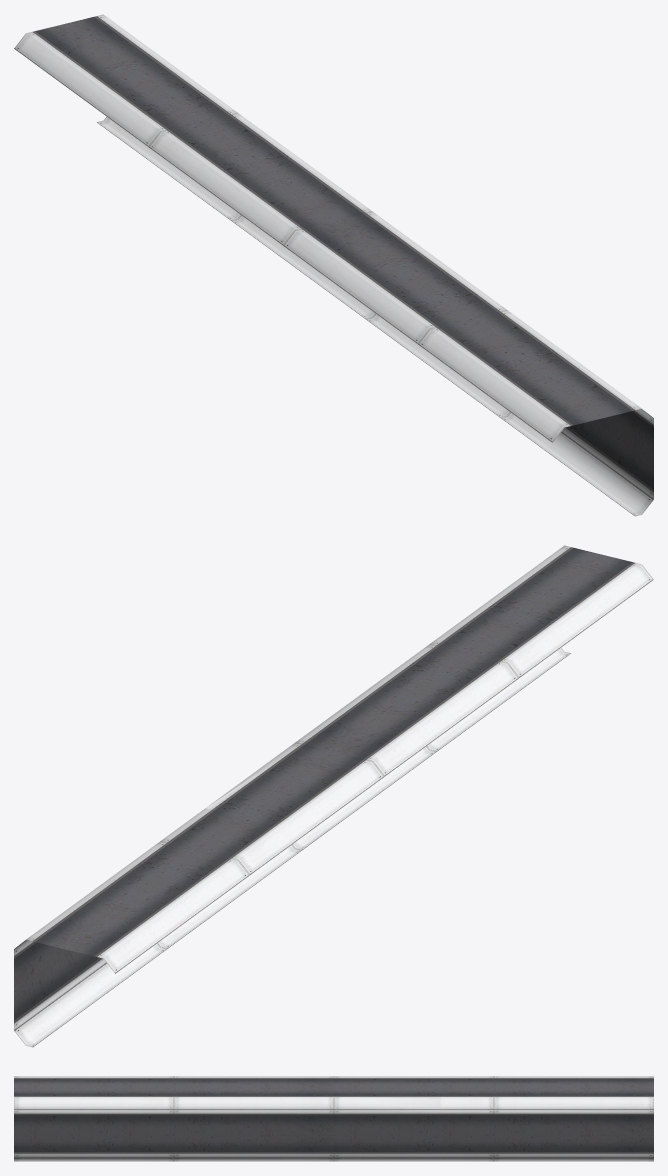
The model's file is GroundTrimCap_1x12.FBX.
The picture shows the model from 3 angles, top to bottom: view 1: azimuth 30°, elevation 25°; view 2: azimuth 150°, elevation 25°; view 3: azimuth 270°, elevation 25°; orthographic projection. The views are drawn at different scales.
Visible parts, largest first — view 1: GroundTrimCap_1x12; view 2: GroundTrimCap_1x12; view 3: GroundTrimCap_1x12.
Part boxes in pixels (x1,y1,x2,y2): GroundTrimCap_1x12: (14,14,653,516); GroundTrimCap_1x12: (14,545,653,1047); GroundTrimCap_1x12: (14,1076,653,1161).
Bounding box in the file's own units: 1.3 × 1.3 × 12.
